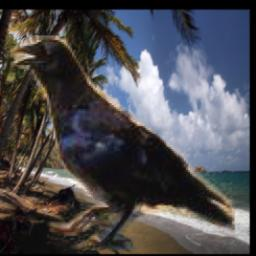Crow: (11, 36, 236, 251)
